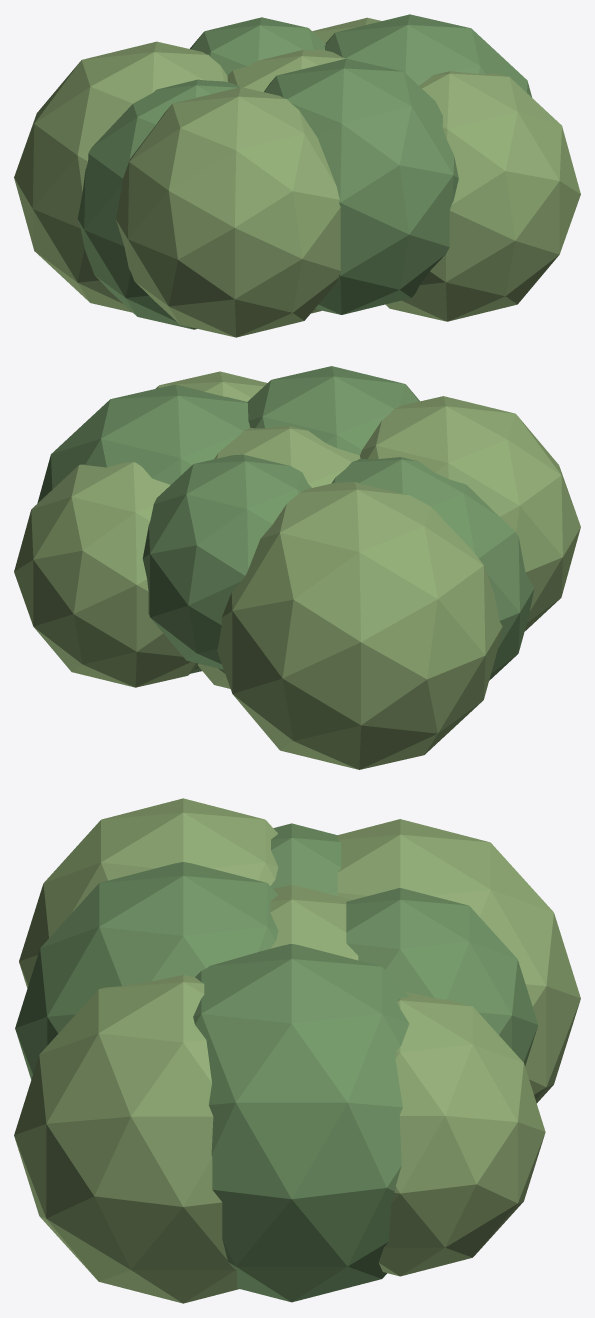
Rendered from shrub.glb.
3 views of the same model, one above another, from view 1: azimuth 30°, elevation 25°; view 2: azimuth 150°, elevation 25°; view 3: azimuth 270°, elevation 25° (orthographic). The views are drawn at different scales.
Parts seen in each view (by area): view 1: leaf6, leaf7, leaf8, leaf0, leaf3, leaf5, leaf1, leaf4, leaf2; view 2: leaf0, leaf2, leaf1, leaf6, leaf5, leaf3, leaf7, leaf4, leaf8; view 3: leaf5, leaf8, leaf2, leaf7, leaf0, leaf1, leaf6, leaf4, leaf3.
Boxes of the visible parts, left/top/right/bottom form: leaf6: left=116, top=87, right=340, bottom=337; leaf7: left=264, top=58, right=458, bottom=314; leaf8: left=385, top=71, right=580, bottom=321; leaf0: left=14, top=41, right=227, bottom=312; leaf3: left=77, top=79, right=239, bottom=329; leaf5: left=324, top=14, right=532, bottom=97; leaf1: left=190, top=17, right=325, bottom=75; leaf4: left=227, top=49, right=345, bottom=313; leaf2: left=312, top=17, right=381, bottom=43; leaf0: left=217, top=482, right=502, bottom=769; leaf2: left=14, top=462, right=197, bottom=687; leaf1: left=142, top=454, right=311, bottom=669; leaf6: left=360, top=396, right=580, bottom=631; leaf5: left=37, top=384, right=250, bottom=673; leaf3: left=331, top=457, right=534, bottom=680; leaf7: left=247, top=366, right=419, bottom=455; leaf4: left=198, top=426, right=360, bottom=688; leaf8: left=155, top=371, right=267, bottom=401; leaf5: left=193, top=944, right=409, bottom=1302; leaf8: left=14, top=975, right=238, bottom=1303; leaf2: left=378, top=992, right=545, bottom=1276; leaf7: left=15, top=862, right=278, bottom=1079; leaf0: left=337, top=819, right=580, bottom=1103; leaf1: left=346, top=888, right=538, bottom=1066; leaf6: left=19, top=798, right=278, bottom=988; leaf4: left=270, top=885, right=358, bottom=960; leaf3: left=270, top=823, right=341, bottom=895.
Bounding box in the file's own units: 2.37 × 1.36 × 1.99.
